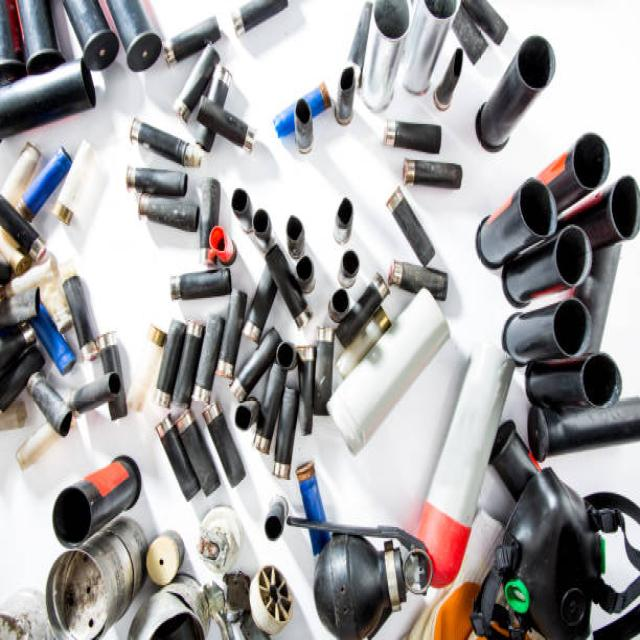grenade: (288, 515, 437, 640)
